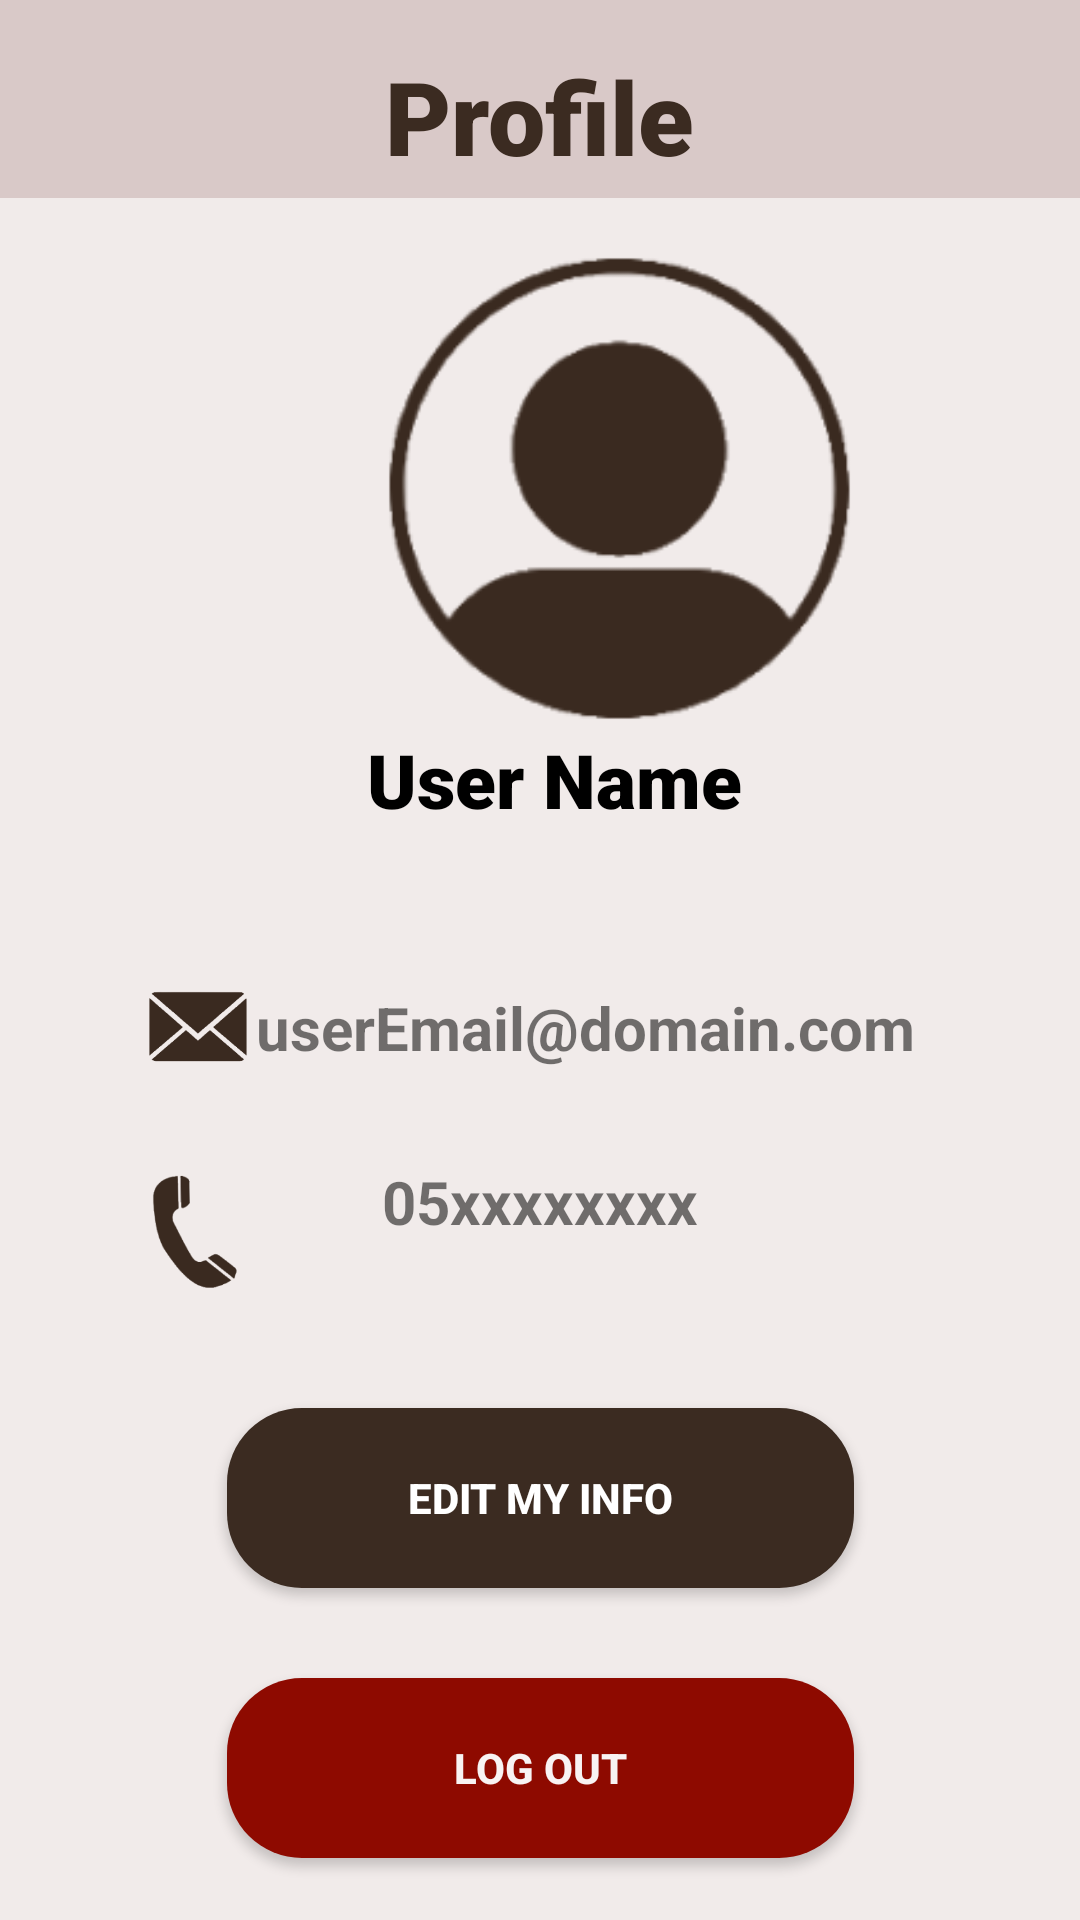

Icon click points for this 1080w x 1920h phone screenshot, format (x=x, y=y):
phone: (x=195, y=1232)
